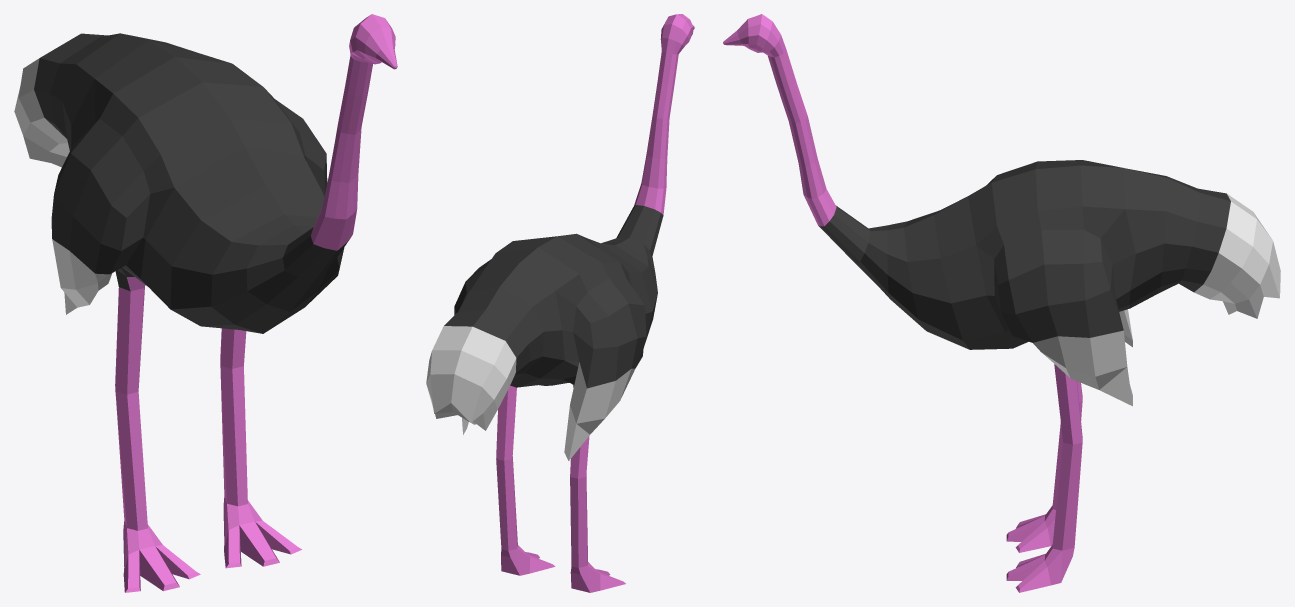
The model's file is Ostrich.fbx.
3 renders of one model, left to right at view 1: azimuth 30°, elevation 25°; view 2: azimuth 150°, elevation 25°; view 3: azimuth 270°, elevation 25°, orthographic. The views are drawn at different scales.
Parts seen in each view (by area): view 1: Ostrich; view 2: Ostrich; view 3: Ostrich.
Part boxes in pixels (<box>): Ostrich: <box>14,14,397,592</box>; Ostrich: <box>426,14,694,592</box>; Ostrich: <box>723,14,1280,592</box>.
Size of the model in its own units: 95.89 by 255 by 237.
